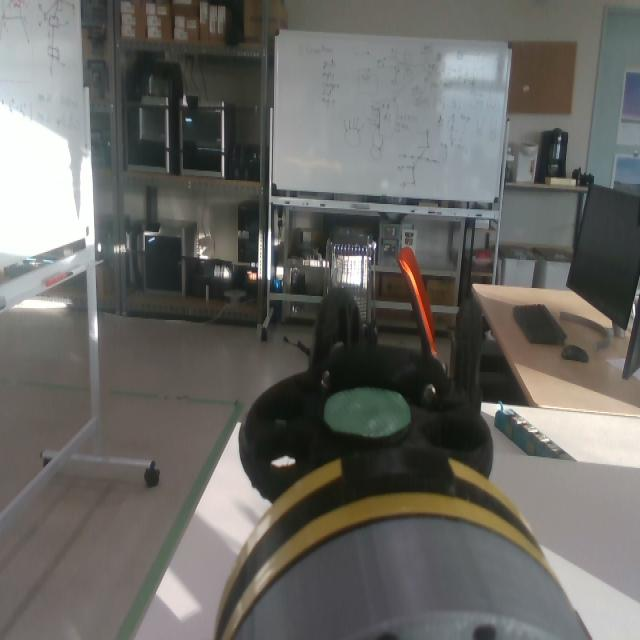body_connector: (235, 516, 594, 640)
connection: (212, 452, 588, 640)
leg: (214, 288, 549, 640)
leg_connector: (211, 445, 548, 640)
marker: (325, 391, 412, 439)
